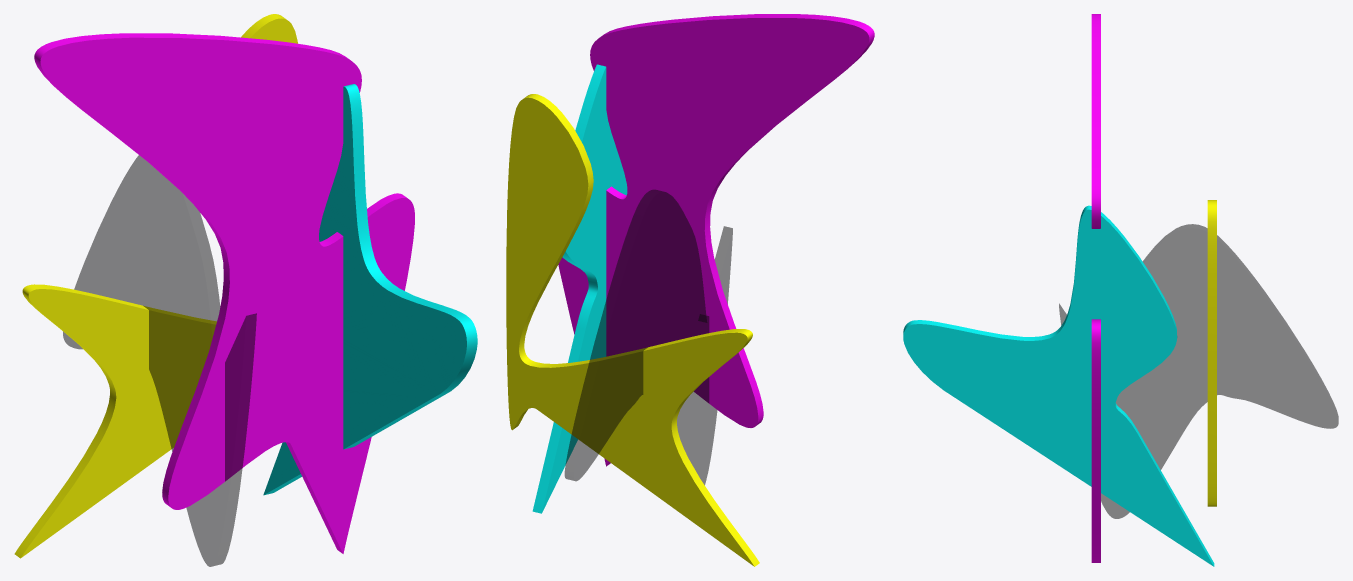
3 renders of one model, left to right at view 1: azimuth 30°, elevation 25°; view 2: azimuth 150°, elevation 25°; view 3: azimuth 270°, elevation 25°, orthographic. The views are drawn at different scales.
Parts seen in each view (by area): view 1: Body13, Body28, Body20, Body21; view 2: Body13, Body20, Body28, Body21; view 3: Body21, Body28, Body13, Body20.
Boxes of the visible parts, bbox=[...] form: Body13: bbox=[34, 33, 414, 553]; Body28: bbox=[63, 155, 256, 566]; Body20: bbox=[14, 14, 297, 558]; Body21: bbox=[263, 84, 477, 495]; Body13: bbox=[558, 14, 874, 466]; Body20: bbox=[506, 94, 759, 566]; Body28: bbox=[564, 189, 732, 484]; Body21: bbox=[532, 64, 627, 513]; Body21: bbox=[903, 205, 1214, 566]; Body28: bbox=[1059, 224, 1338, 518]; Body13: bbox=[1091, 14, 1100, 562]; Body20: bbox=[1207, 200, 1216, 506].
Bounding box in the file's own units: 0.7039 × 1.04 × 0.9295.
Materials: 4 (1 with a texture image).
